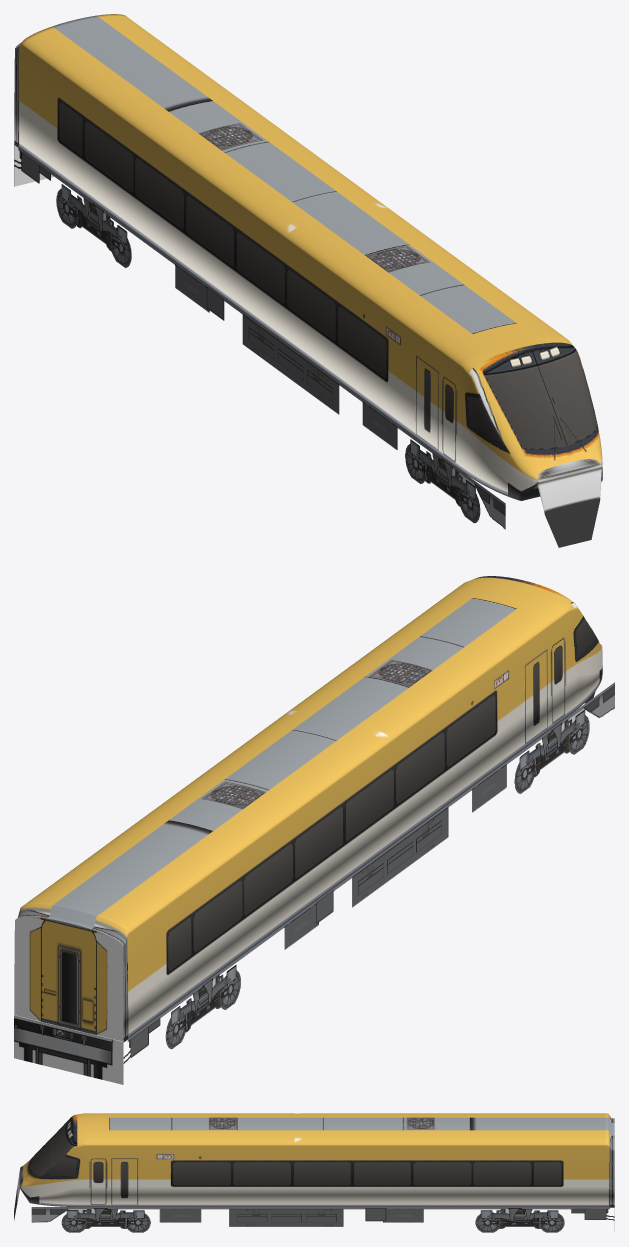
The model's file is car1.glb.
3 renders of one model, top to bottom at view 1: azimuth 30°, elevation 25°; view 2: azimuth 150°, elevation 25°; view 3: azimuth 270°, elevation 25°, orthographic. The views are drawn at different scales.
Visible parts, largest first — view 1: kintetsu-23000-car1; view 2: kintetsu-23000-car1; view 3: kintetsu-23000-car1.
Boxes of the visible parts, bbox=[...] form: kintetsu-23000-car1: bbox=[14, 14, 602, 547]; kintetsu-23000-car1: bbox=[14, 576, 614, 1084]; kintetsu-23000-car1: bbox=[14, 1113, 614, 1232].
Bounding box in the file's own units: 2.8 × 3.85 × 22.46.
Materials: 7 (6 with a texture image).
